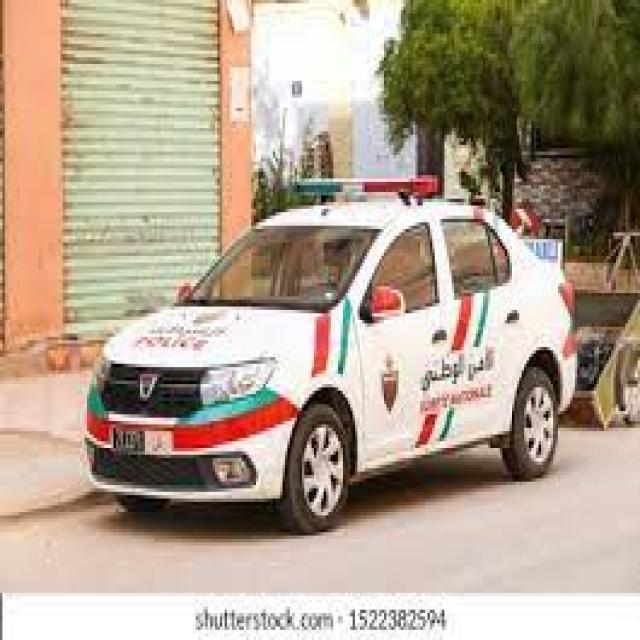Police car: (83, 163, 582, 534)
